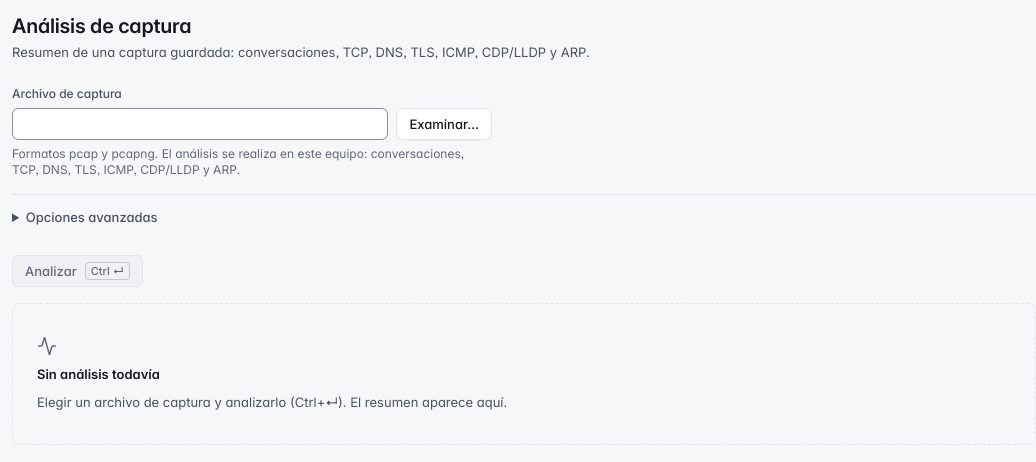
Test: pcap analiza la ruta indicada y muestra el resumen
Type "/home/x/cap.pcapng" into the field labelled "Archivo de captura".
click(200, 124); type("/home/x/cap.pcapng")  # box x1=12 y1=108 x2=388 y2=140
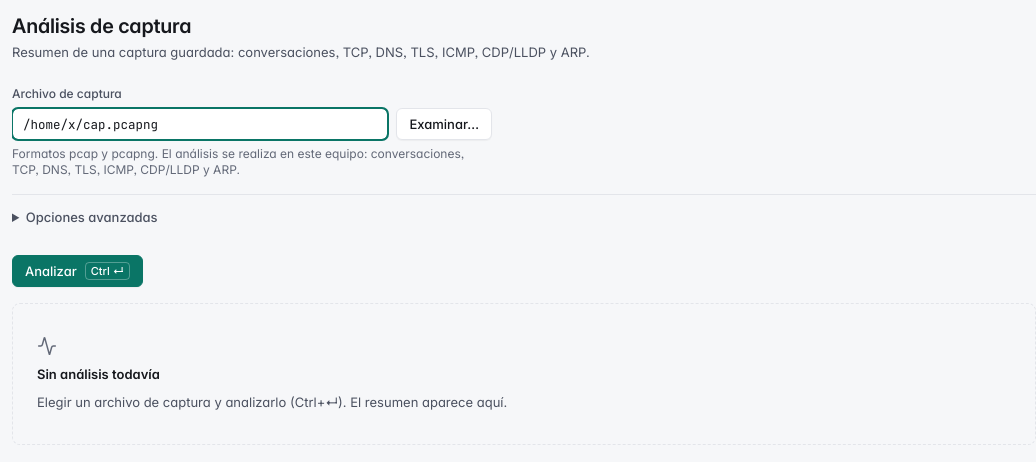
Click the button "Analizar Ctrl ↵".
click(77, 271)  # box x1=12 y1=255 x2=143 y2=287
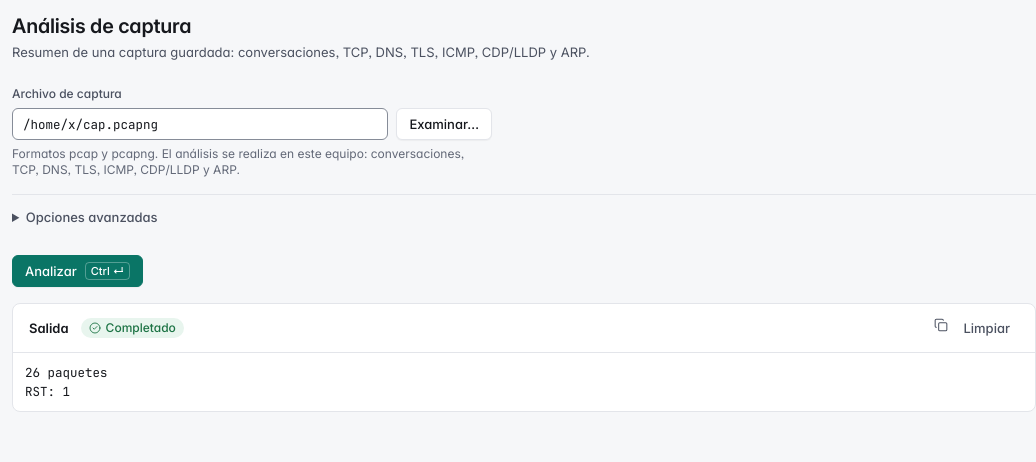
Expected: the text "26 paquetes" is shown, x1=25 y1=364 x2=108 y2=381
